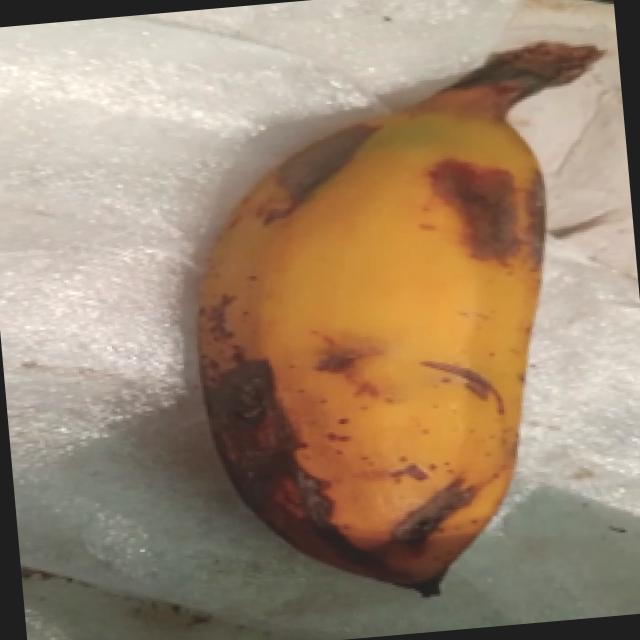Rotten_Banana: (155, 26, 640, 617)
